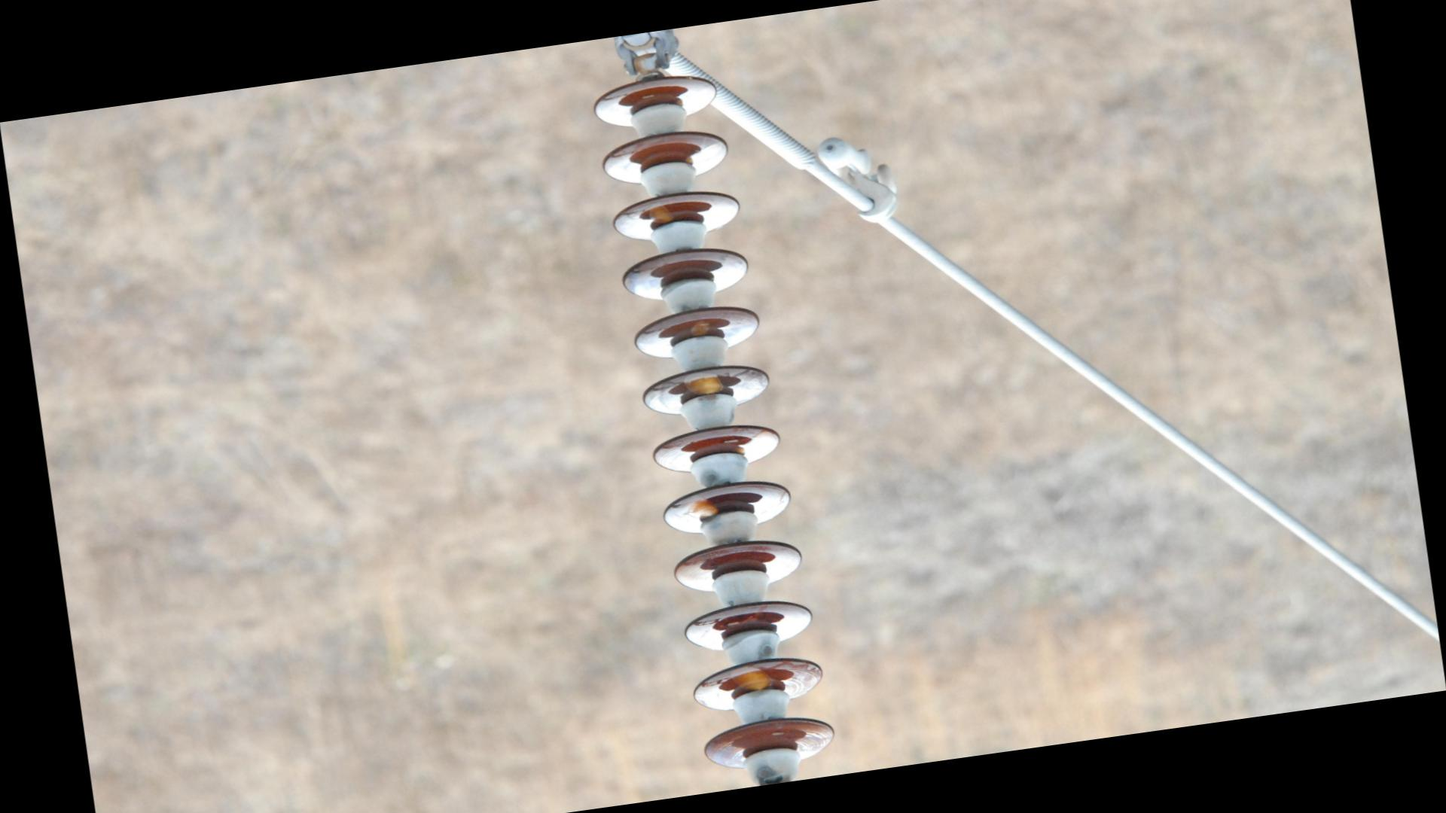damper: (812, 123, 910, 234)
